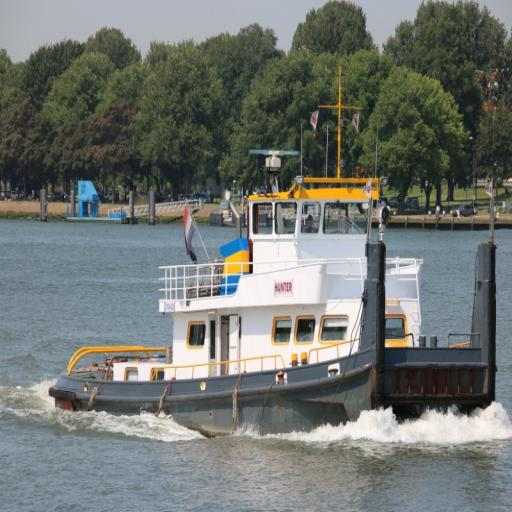tugboat: (45, 63, 502, 447)
